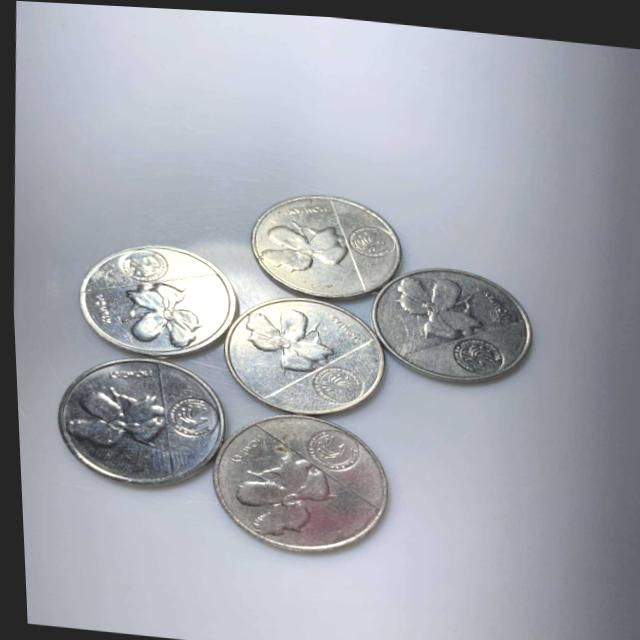25Cent_New_Back: (216, 442, 350, 543), (46, 372, 176, 473), (230, 296, 344, 386), (378, 261, 498, 344), (252, 199, 358, 282), (105, 272, 208, 346)
